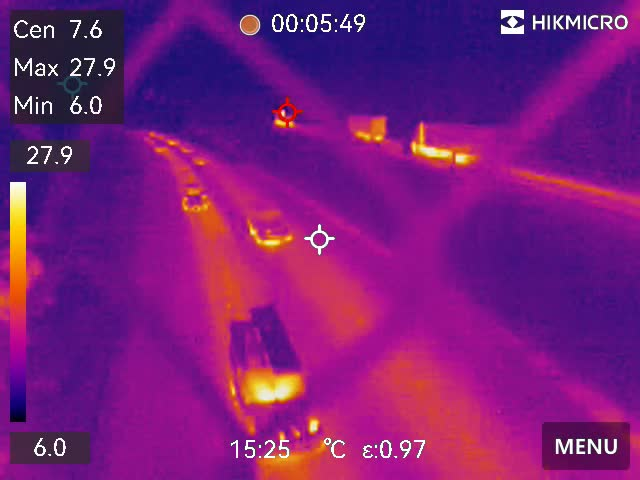heavyTruck: (406, 116, 497, 167), (338, 112, 387, 144)
